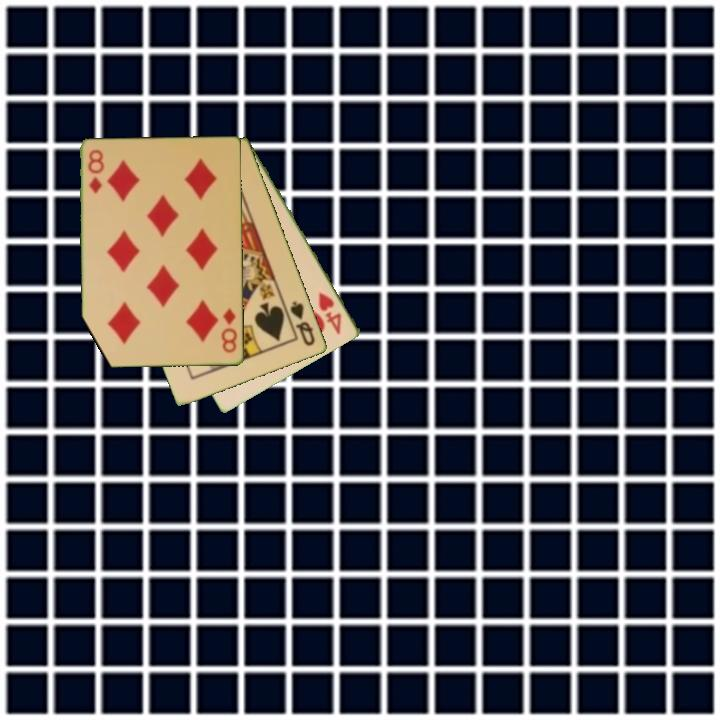4h: (315, 288, 345, 337)
8d: (218, 305, 240, 356), (85, 146, 106, 196)
Qs: (287, 297, 318, 349)
